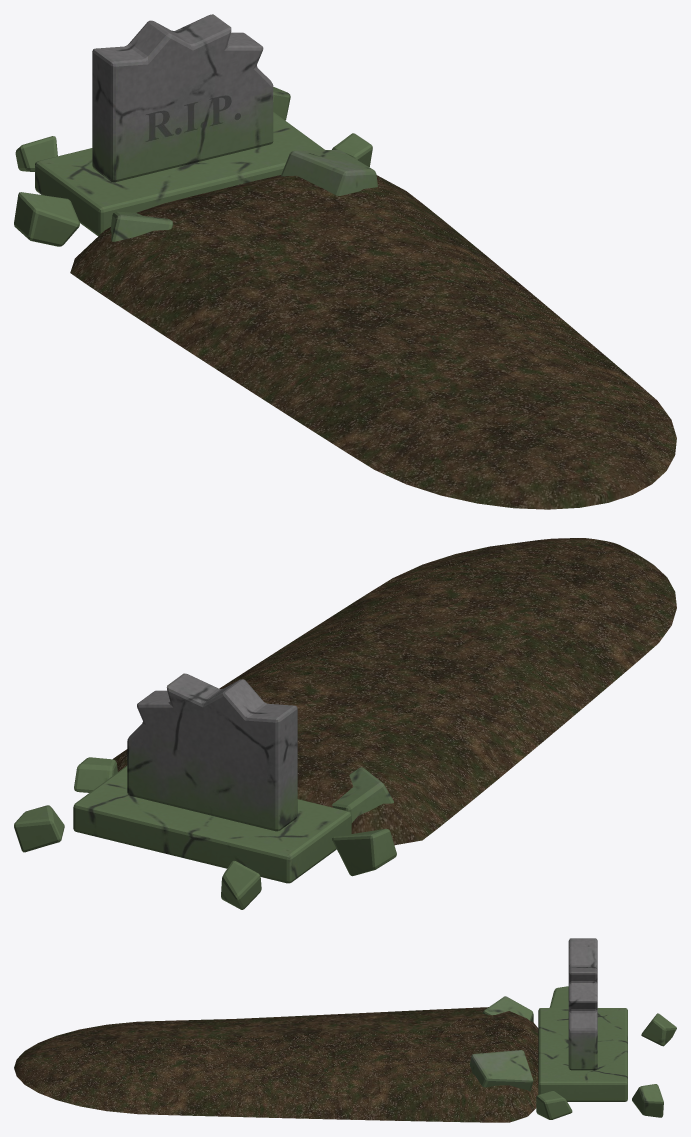
Rendered from gravestone_rubble_a.glb.
3 views of the same model, one above another, from view 1: azimuth 30°, elevation 25°; view 2: azimuth 150°, elevation 25°; view 3: azimuth 270°, elevation 25° (orthographic). The views are drawn at different scales.
Parts seen in each view (by area): view 1: gravestone_rubble_a; view 2: gravestone_rubble_a; view 3: gravestone_rubble_a.
Part boxes in pixels (left/top/right/bottom): gravestone_rubble_a: left=14, top=14, right=676, bottom=509; gravestone_rubble_a: left=14, top=538, right=676, bottom=909; gravestone_rubble_a: left=14, top=938, right=676, bottom=1122.
Size of the model in its own units: 1.18 by 0.5886 by 2.96.
Materials: 2 (2 with a texture image).
